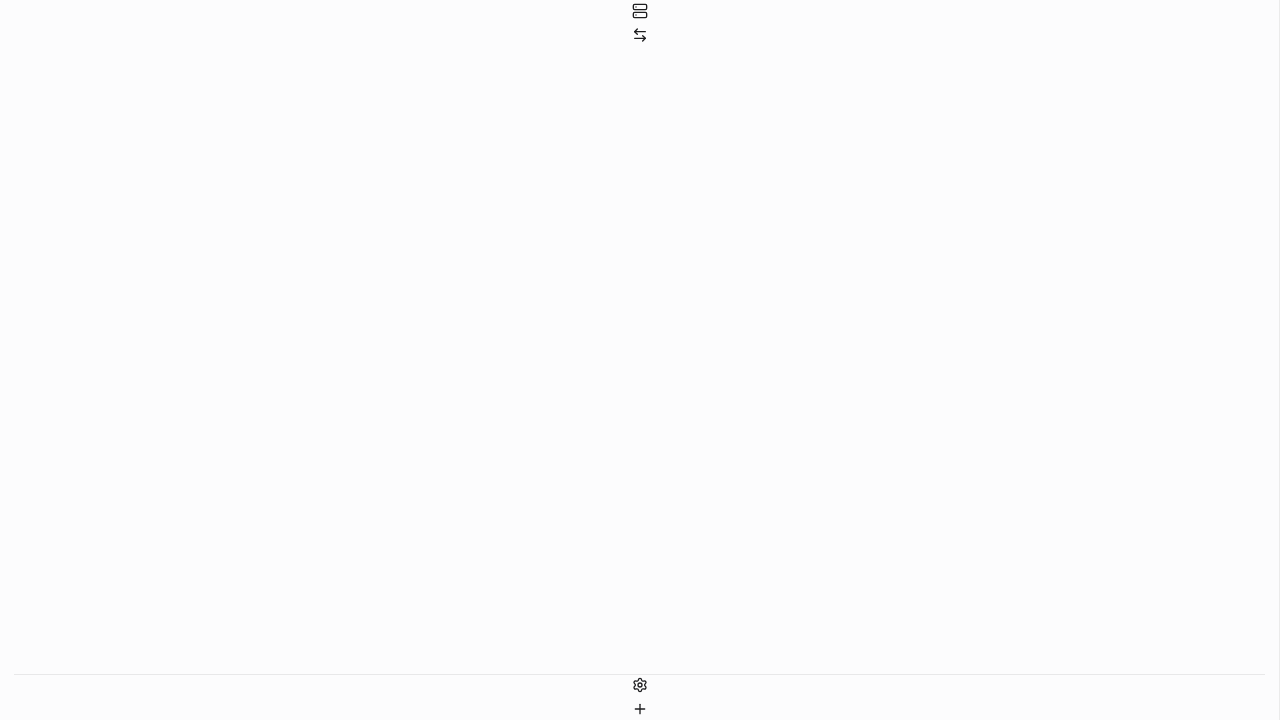
Test: MachineSidebar › collapses all machines behind one host entry and opens them in a flyout
Expected: the button "PowerShell" is not shown
Expected: the button "ubuntu-dev" is not shown
Click the button named "打开主机列表" at (640, 11), box x1=632 y1=3 x2=648 y2=19
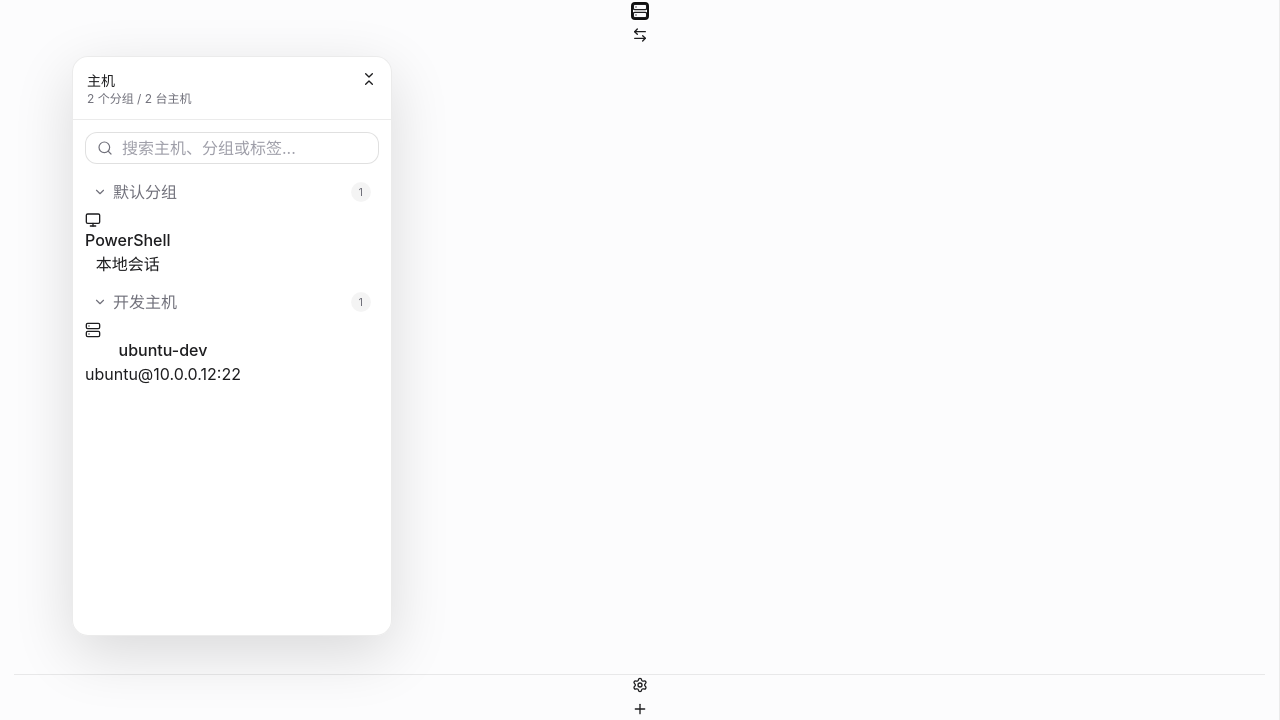
Now the dialog named "主机列表" is shown, box x1=72 y1=56 x2=392 y2=636
Now the button "PowerShell 本地会话" is shown, box x1=85 y1=212 x2=171 y2=276
Now the button "ubuntu-dev ubuntu@10.0.0.12:22" is shown, box x1=85 y1=322 x2=241 y2=386
Type "ubuntu" into the field named "搜索主机列表" at (232, 148), box x1=85 y1=132 x2=379 y2=164
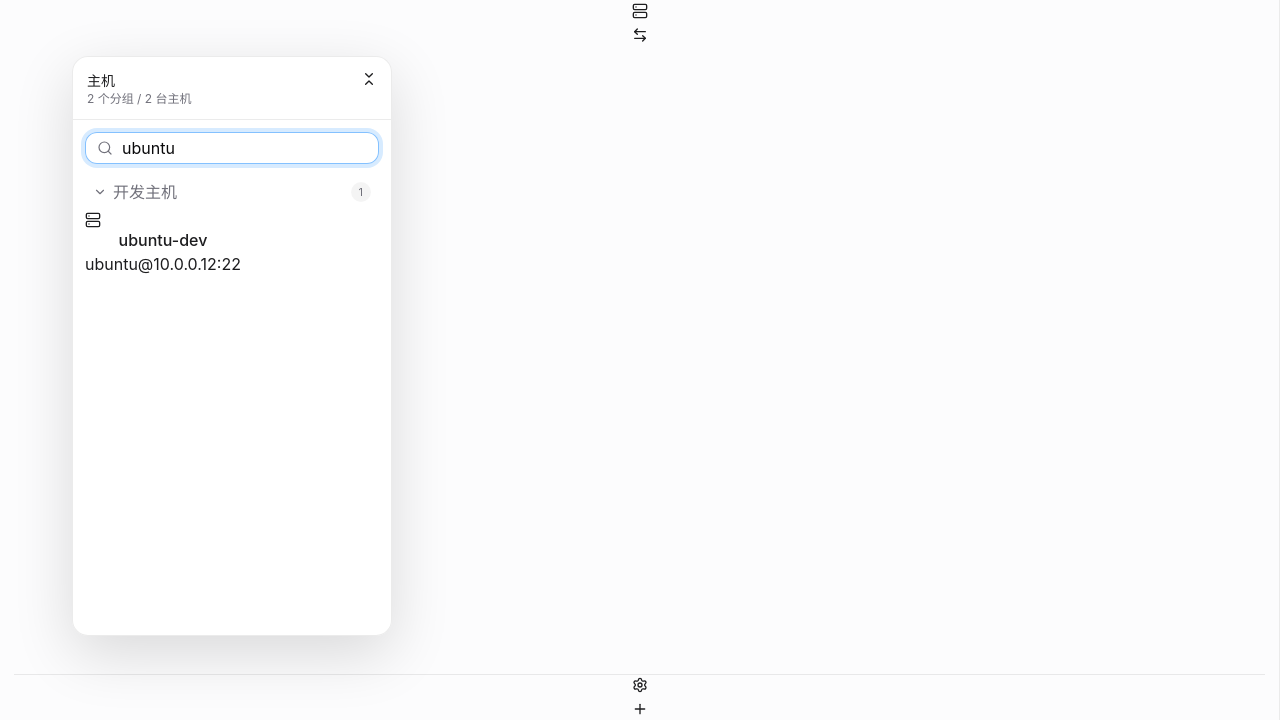
Now the button "ubuntu-dev ubuntu@10.0.0.12:22" is shown, box x1=85 y1=212 x2=241 y2=276
Now the button "PowerShell" is gone
